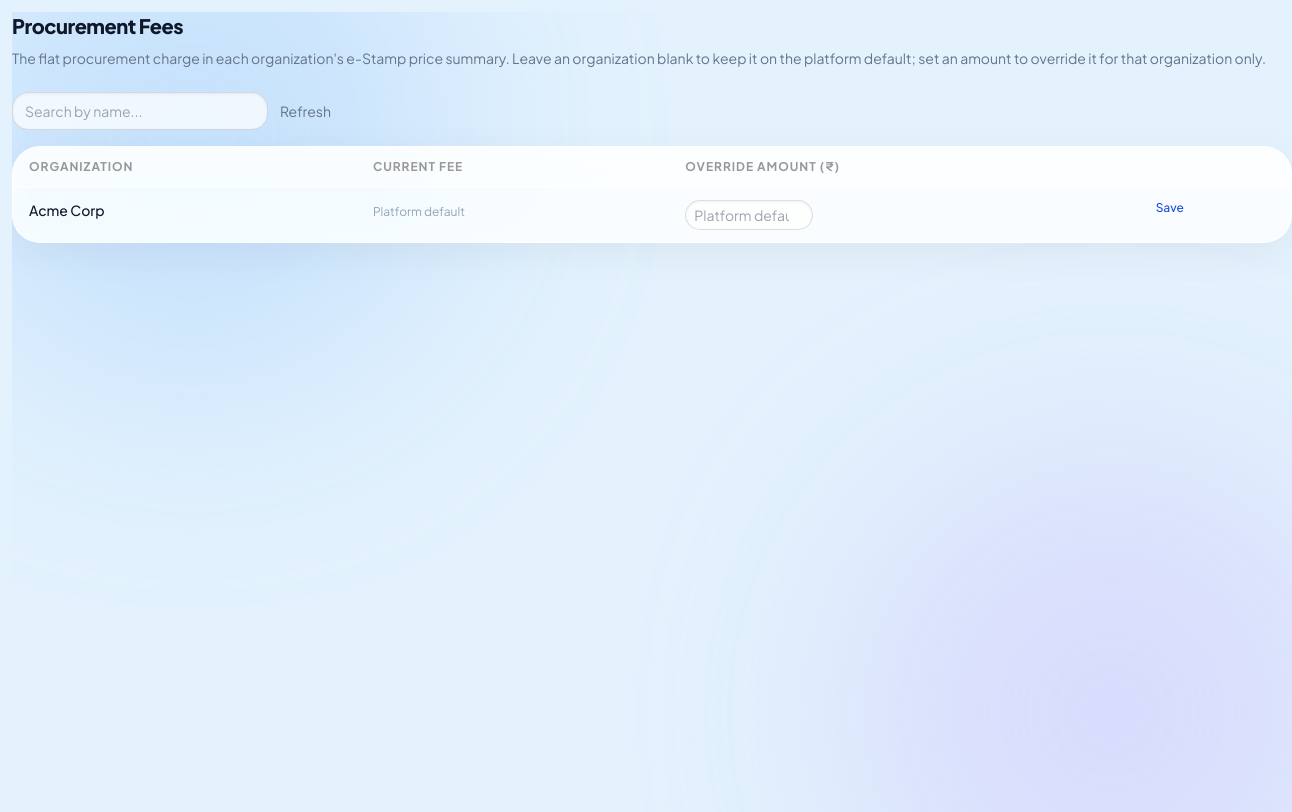
Test case: ProcurementFeesPage - saving an override › saves a new override via the real endpoint
This screenshot has width=1292, height=812.
Expected: the text "Acme Corp" is shown, [13,188,357,242]
Type "25" into the number field named "Procurement fee override for Acme Corp" at x=749, y=215, box [685,200,813,230]
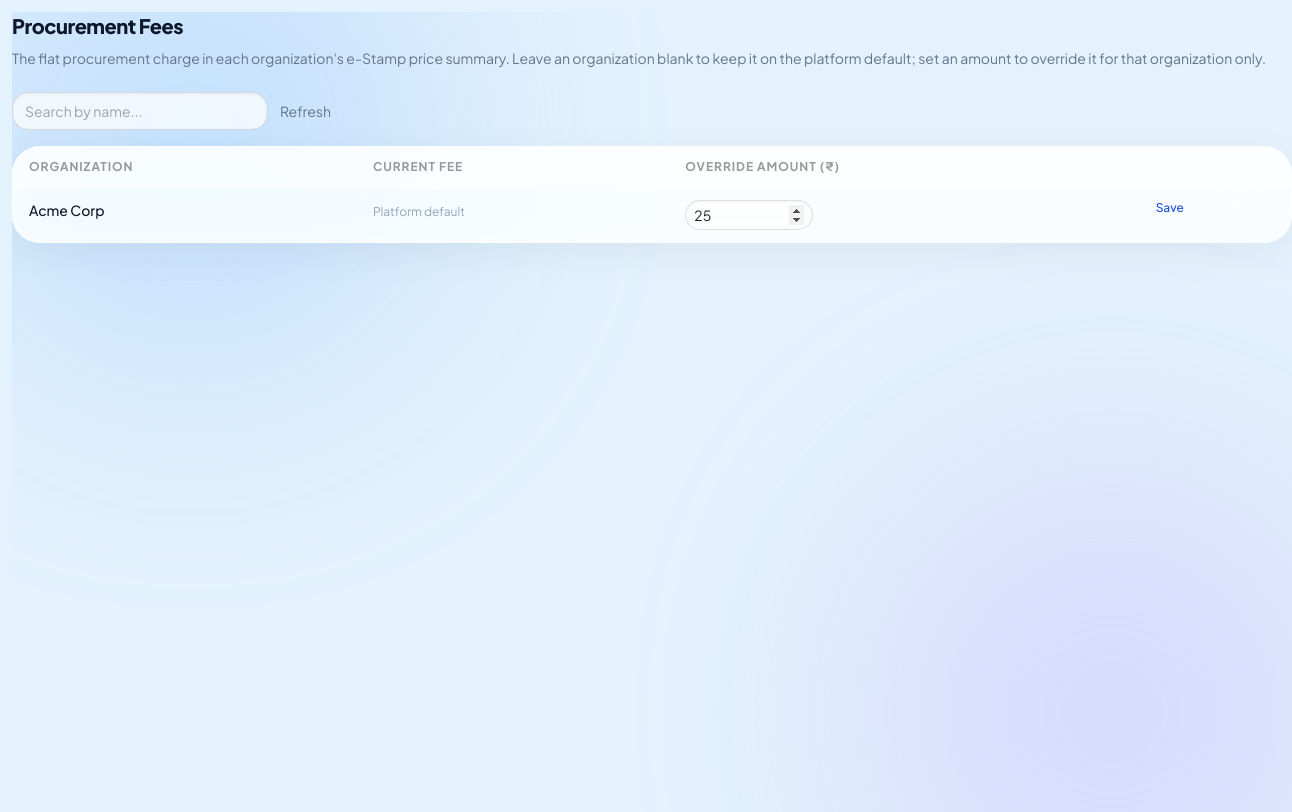
Click the button "Save" at x=1170, y=208, box [1156,200,1184,216]
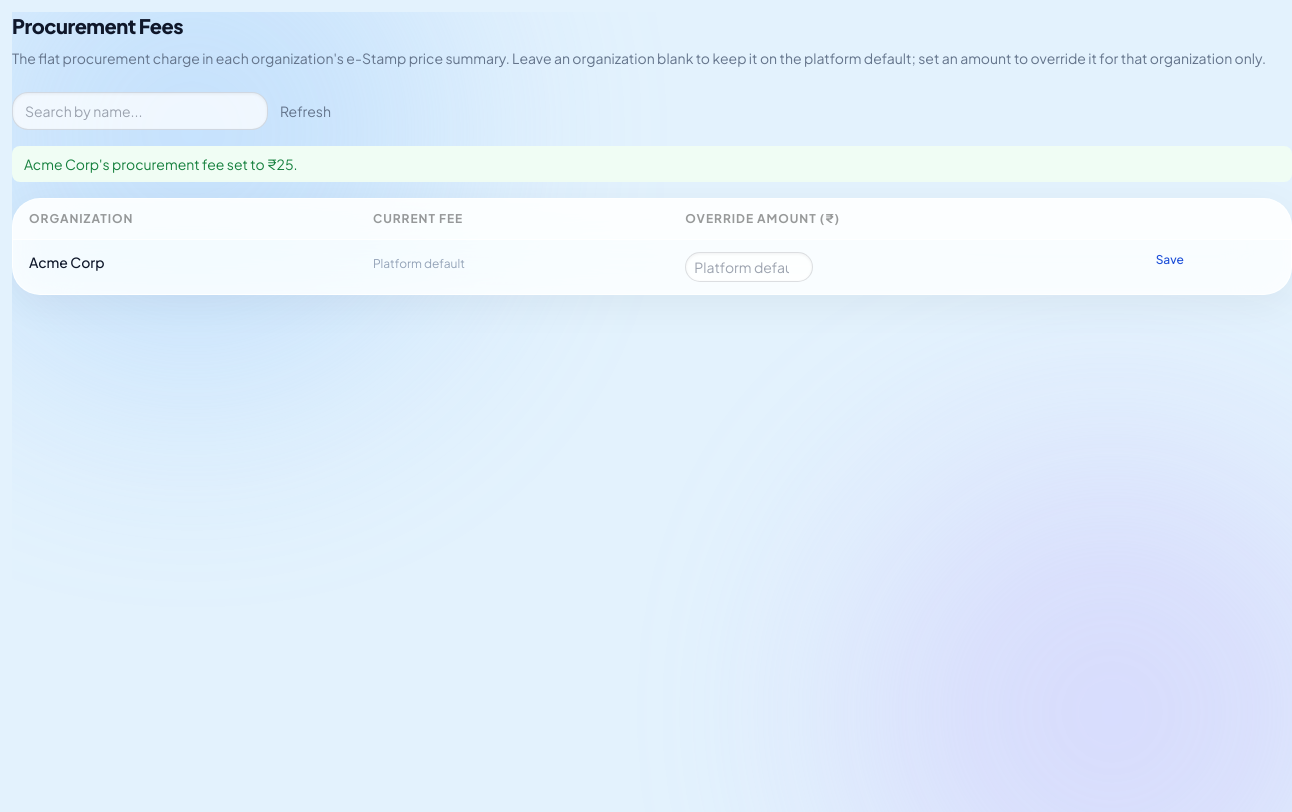
Expected: the text "Acme Corp's procurement fee set to ₹25." is shown, [12,146,1291,182]
